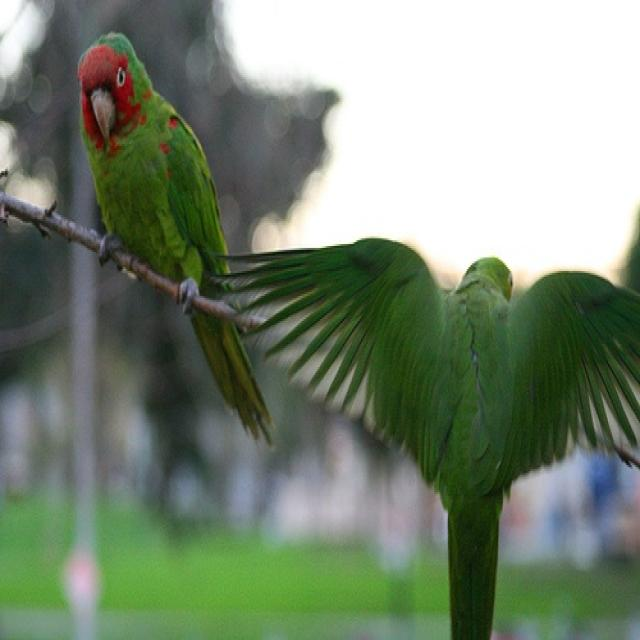bird: (206, 234, 640, 639), (76, 28, 282, 458)
